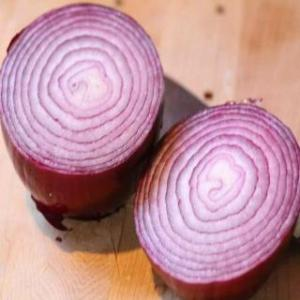onion: (2, 0, 167, 220), (132, 98, 300, 300)
